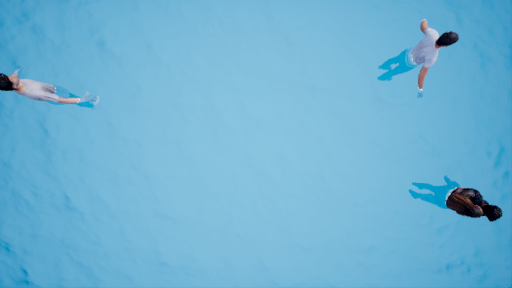person: (379, 12, 458, 98), (410, 175, 509, 228), (1, 69, 103, 114)
